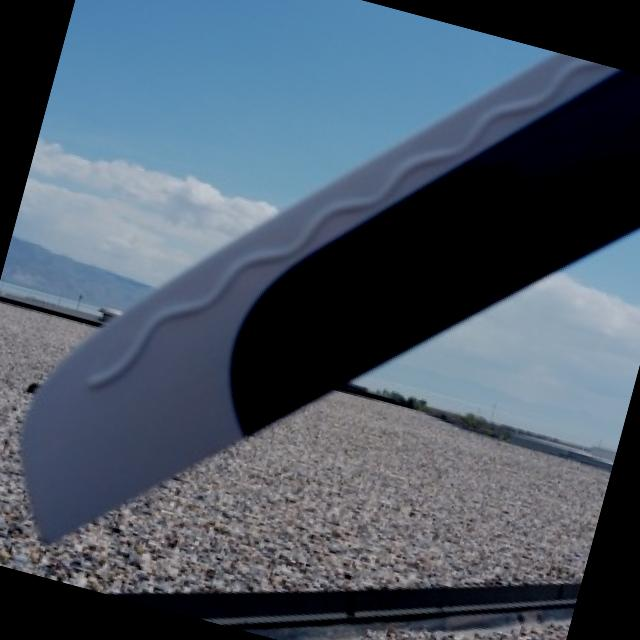healthy: (23, 54, 640, 539)
